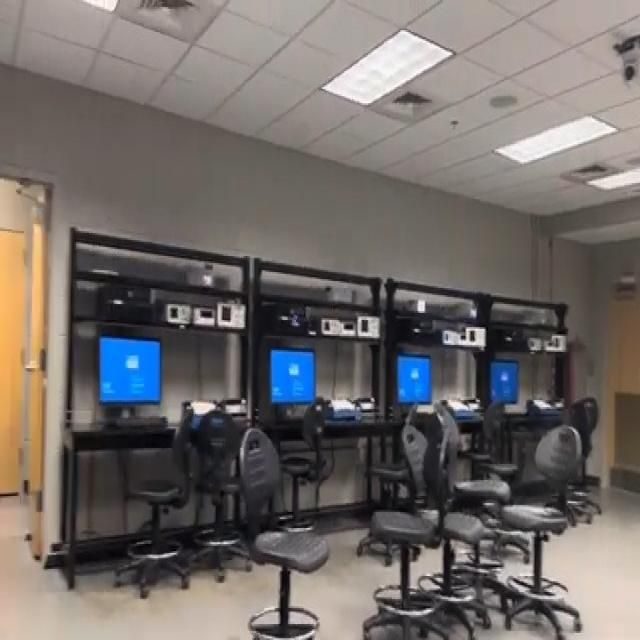drone: (282, 301, 304, 335)
